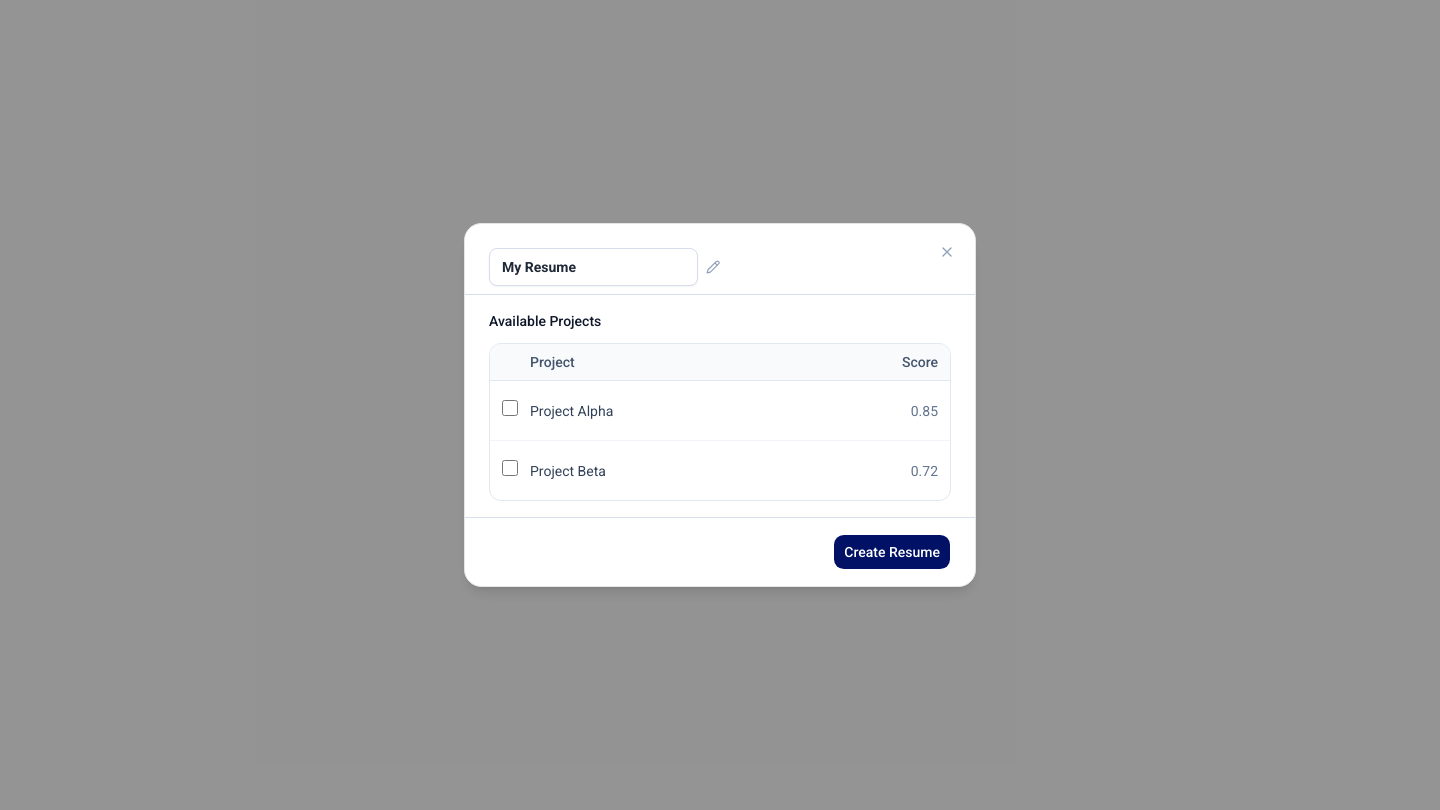
Scenario: CreateResumeModal › can deselect a project by clicking row again
What coordinates should you click on to do the following:
click the text "Project Alpha"
I would click on:
 (572, 410)
Its box is [530,380,796,440].
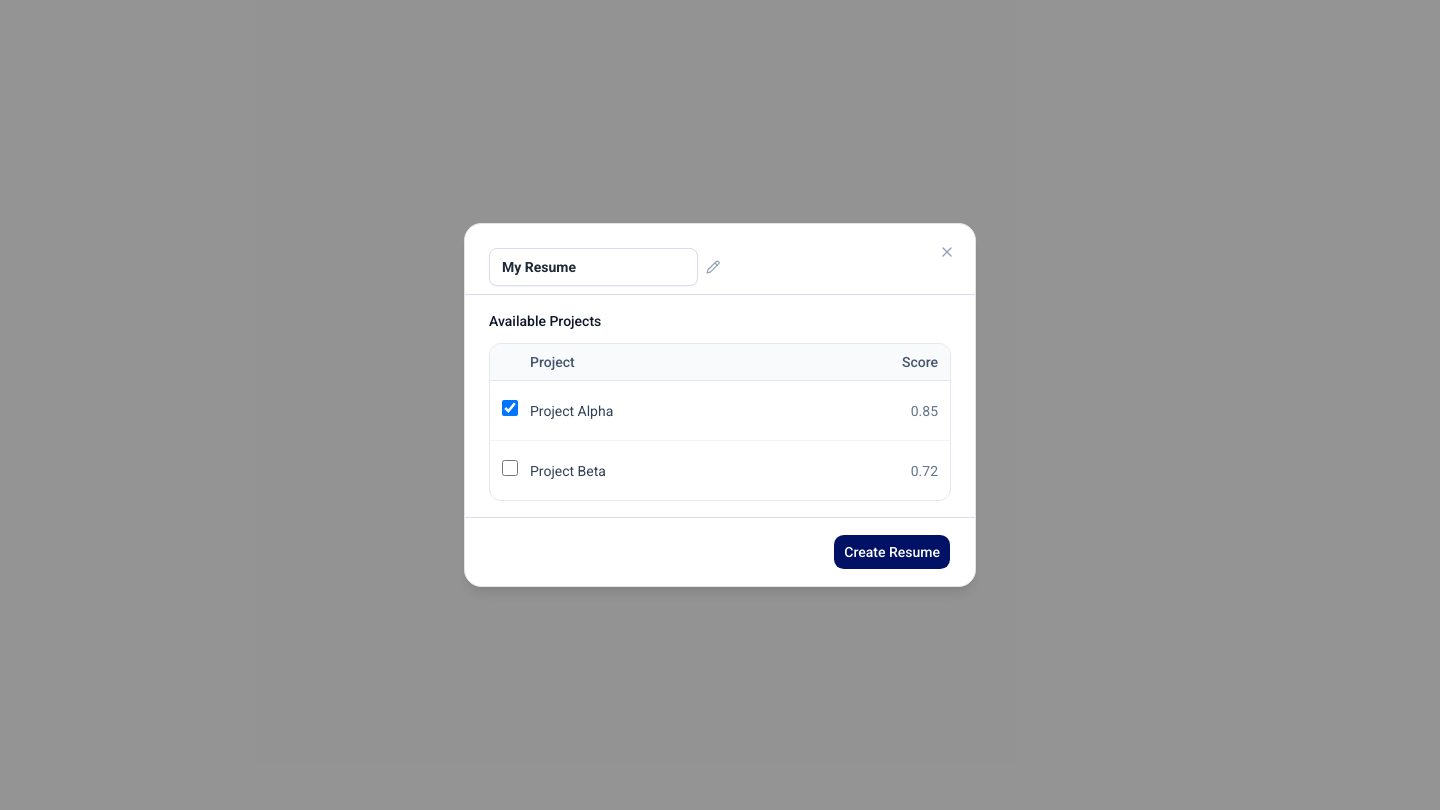
What coordinates should you click on to do the following:
click the text "Project Alpha"
I would click on:
 (572, 410)
Its box is [530,380,796,440].
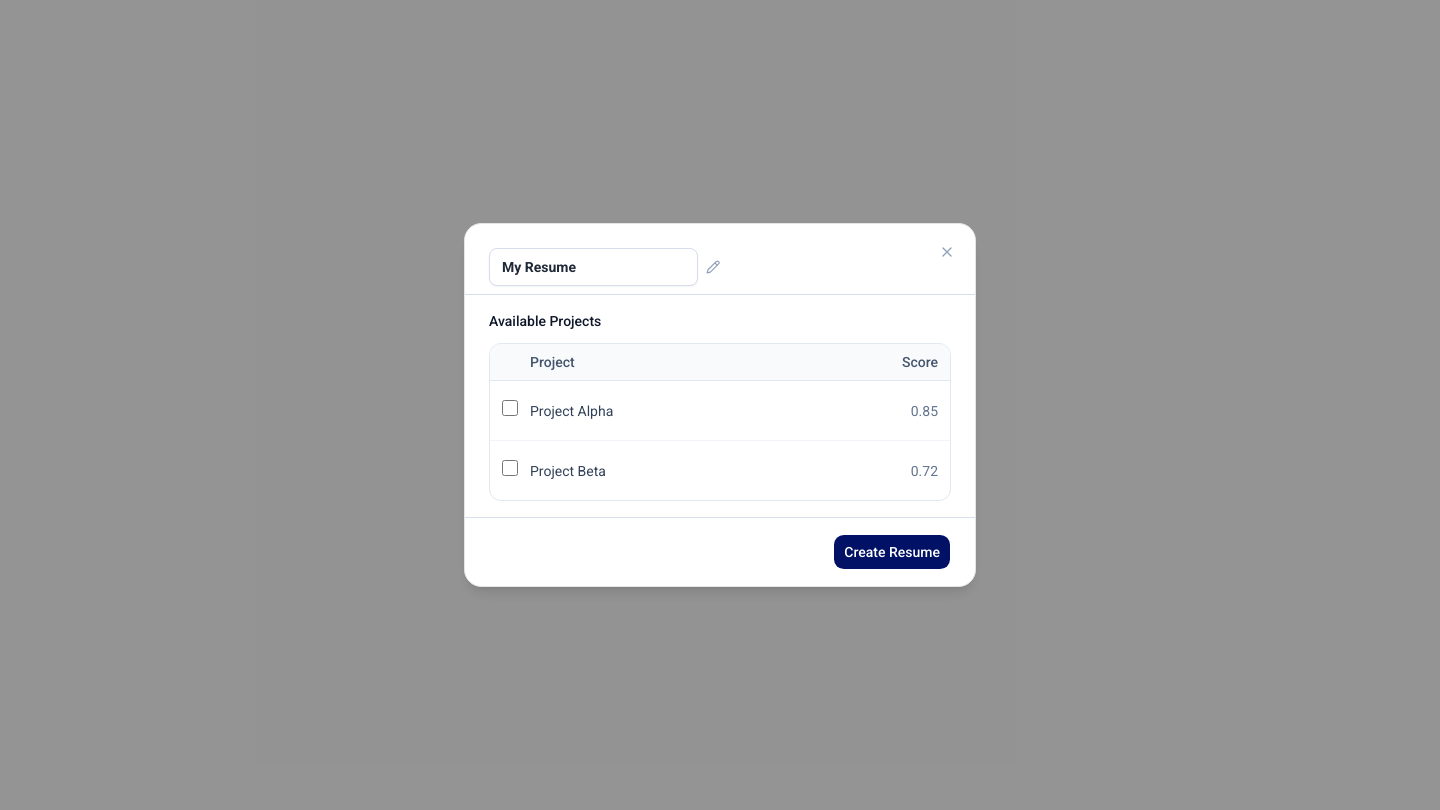
What coordinates should you click on to do the following:
click the button "Create Resume"
I would click on:
 (892, 552)
Its box is [833,534,951,570].
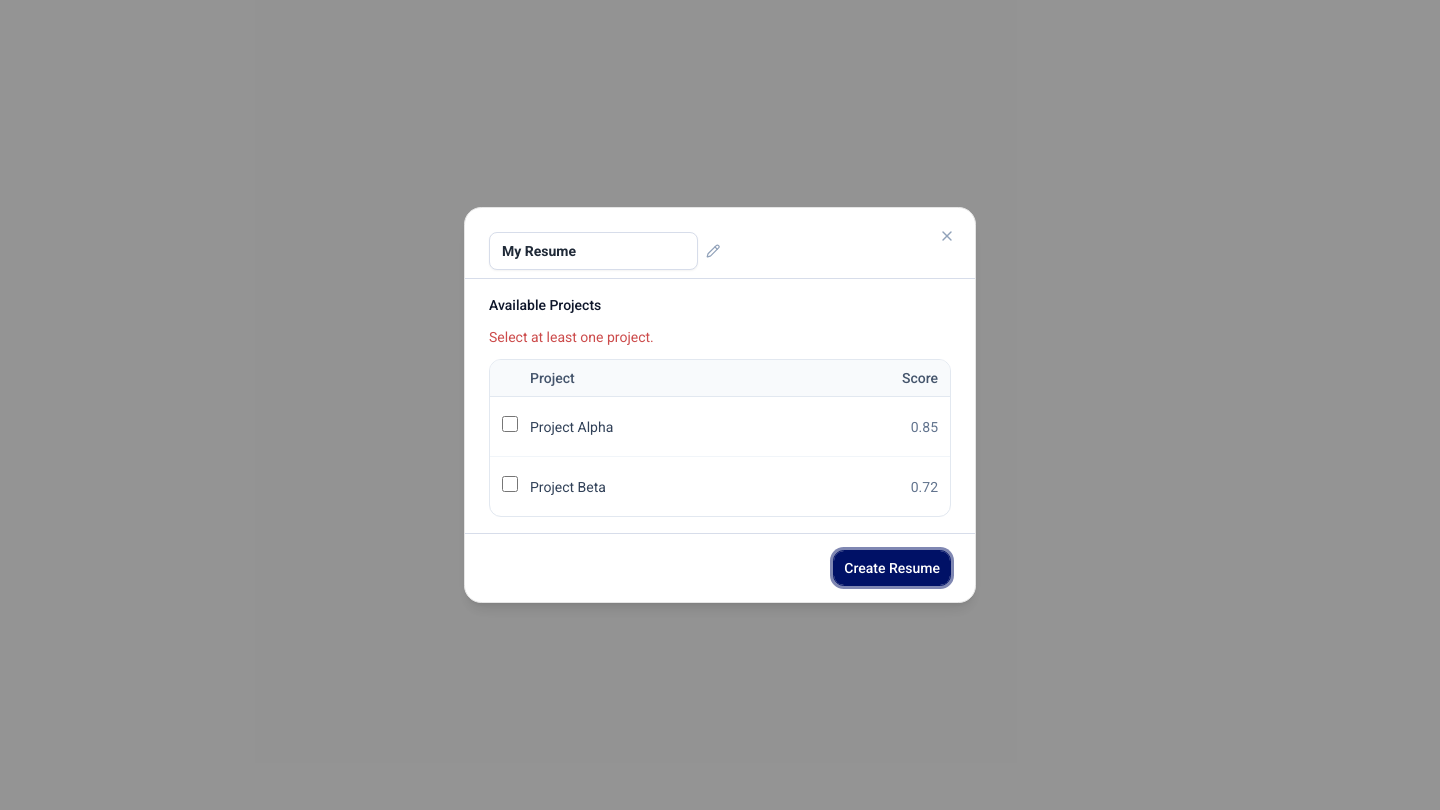
Expected: the text "Select at least one project." is shown, [489,329,654,345]
